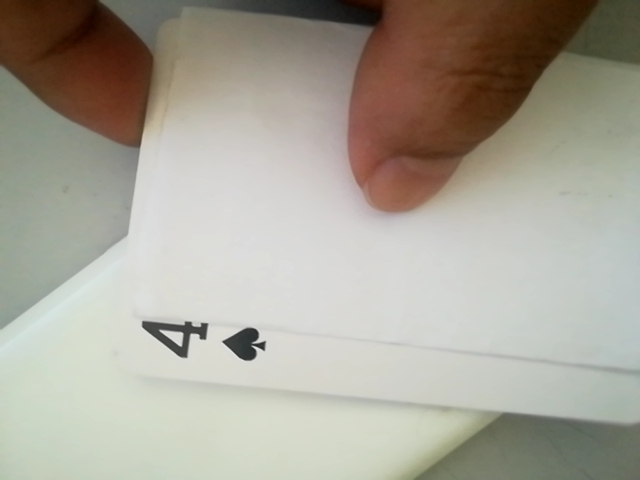ht 4: (122, 309, 278, 382)
